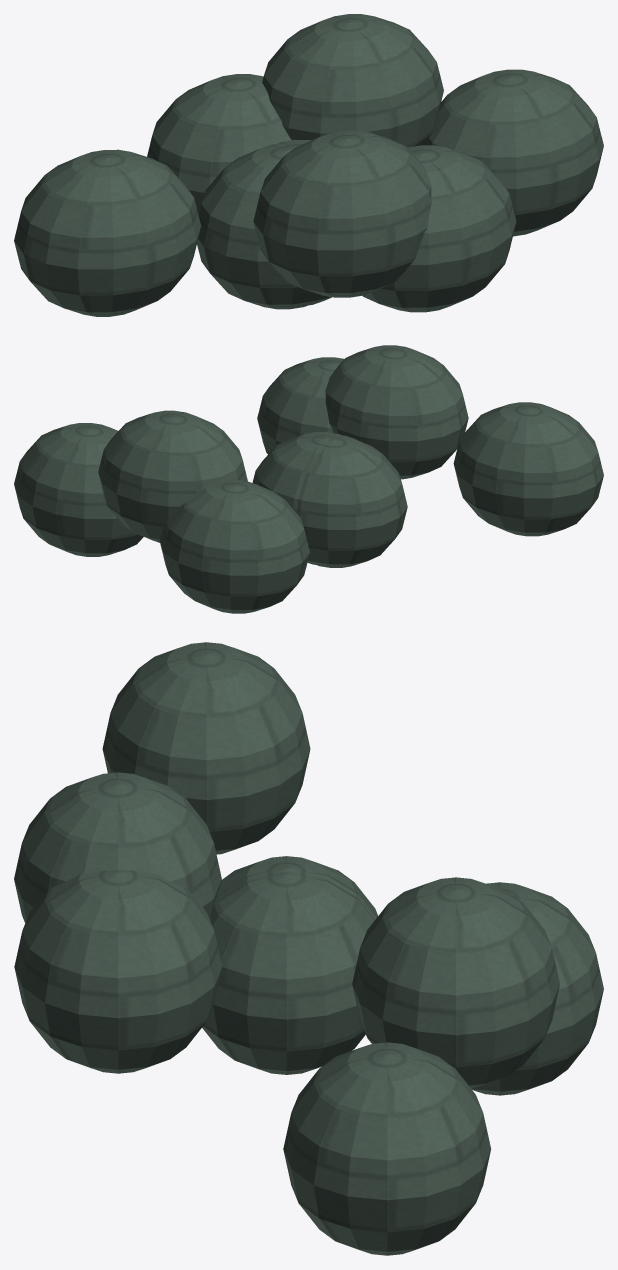
Rendered from quarry.glb.
3 renders of one model, top to bottom at view 1: azimuth 30°, elevation 25°; view 2: azimuth 150°, elevation 25°; view 3: azimuth 270°, elevation 25°, orthographic. The views are drawn at different scales.
Parts seen in each view (by area): view 1: cut_stone.007, cut_stone, cut_stone.003, cut_stone.006, cut_stone.004, cut_stone.001, cut_stone.002; view 2: cut_stone.007, cut_stone.001, cut_stone, cut_stone.003, cut_stone.002, cut_stone.006, cut_stone.004, cut_stone.005; view 3: cut_stone.006, cut_stone.004, cut_stone.003, cut_stone.007, cut_stone.005, cut_stone, cut_stone.001, cut_stone.002.
Part boxes in pixels (left/top/right/bottom): cut_stone.007: left=14, top=149, right=201, bottom=316; cut_stone: left=253, top=130, right=431, bottom=297; cut_stone.003: left=262, top=14, right=443, bottom=147; cut_stone.006: left=422, top=69, right=603, bottom=236; cut_stone.004: left=362, top=145, right=516, bottom=312; cut_stone.001: left=147, top=74, right=291, bottom=214; cut_stone.002: left=197, top=143, right=322, bottom=309; cut_stone.007: left=453, top=402, right=603, bottom=536; cut_stone.001: left=159, top=479, right=309, bottom=613; cut_stone: left=325, top=345, right=468, bottom=479; cut_stone.003: left=98, top=410, right=247, bottom=542; cut_stone.002: left=297, top=435, right=407, bottom=567; cut_stone.006: left=14, top=423, right=143, bottom=556; cut_stone.004: left=257, top=357, right=344, bottom=454; cut_stone.005: left=252, top=432, right=341, bottom=564; cut_stone.006: left=283, top=1042, right=490, bottom=1255; cut_stone.004: left=14, top=870, right=222, bottom=1073; cut_stone.003: left=352, top=877, right=559, bottom=1088; cut_stone.007: left=102, top=642, right=310, bottom=854; cut_stone.005: left=202, top=872, right=374, bottom=1074; cut_stone: left=14, top=772, right=221, bottom=922; cut_stone.001: left=471, top=882, right=603, bottom=1095; cut_stone.002: left=216, top=856, right=377, bottom=919.
Bounding box in the file's own units: 2.68 × 0.9523 × 1.7.
1 material, 1 textured.
